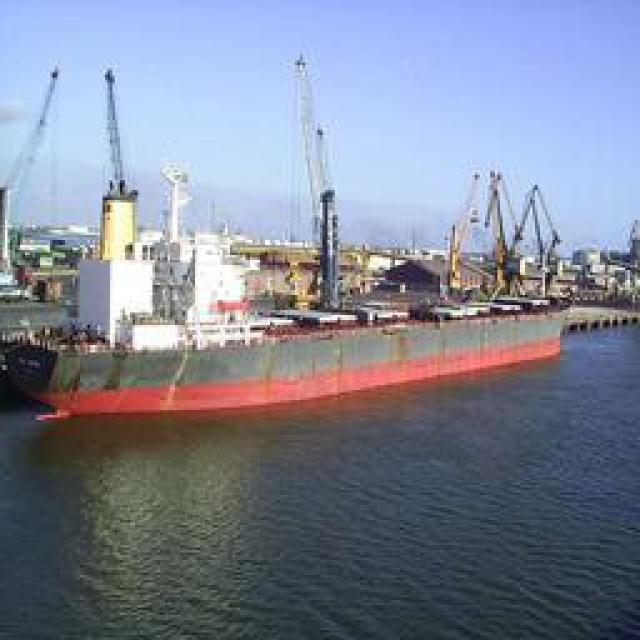Ship: (18, 47, 583, 460)
